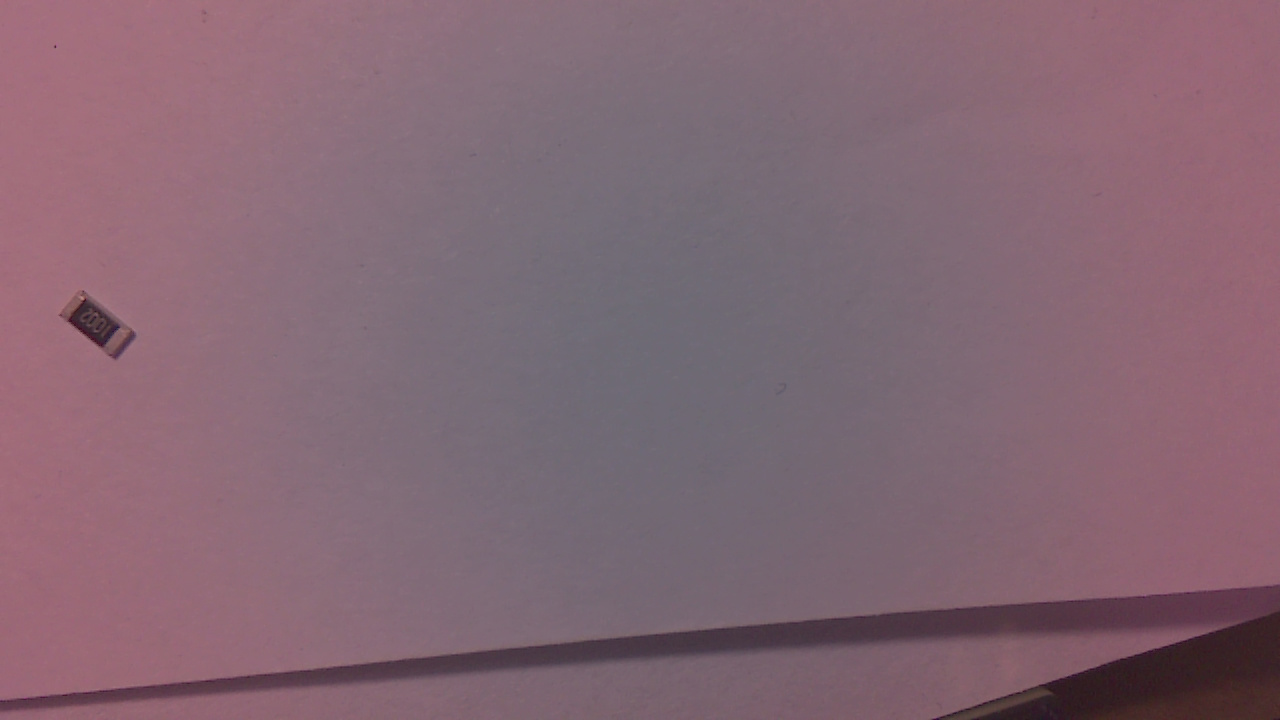Resistor: (62, 295, 146, 365)
